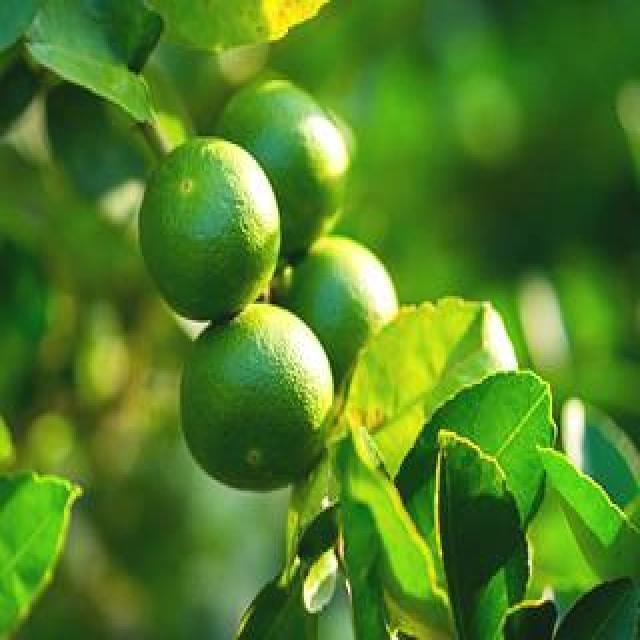heathy: (177, 301, 337, 493), (137, 127, 286, 297)
